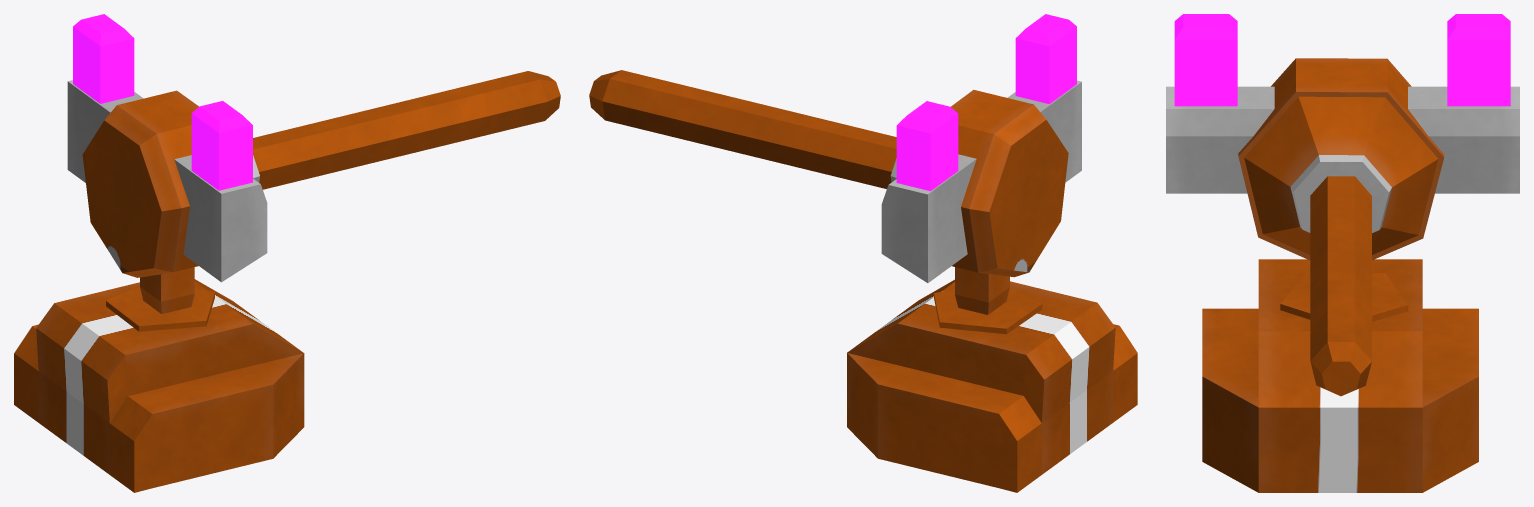
The model's file is Torrelongoalcance3.fbx.
The picture shows the model from 3 angles, left to right: view 1: azimuth 30°, elevation 25°; view 2: azimuth 150°, elevation 25°; view 3: azimuth 270°, elevation 25°; orthographic projection. The views are drawn at different scales.
Visible parts, largest first — view 1: Torre, Base.001; view 2: Torre, Base.001; view 3: Torre, Base.001.
Part boxes in pixels (x1,y1,x2,y2): Torre: (67, 14, 560, 313); Base.001: (14, 279, 304, 492); Torre: (589, 14, 1081, 314); Base.001: (847, 279, 1137, 492); Torre: (1166, 14, 1519, 396); Base.001: (1202, 259, 1478, 492).
Bounding box in the file's own units: 661 × 472 × 366.
